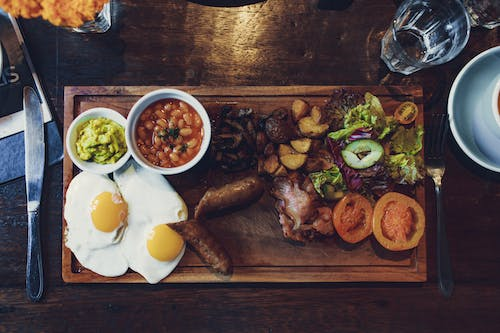knife: (22, 85, 46, 303)
